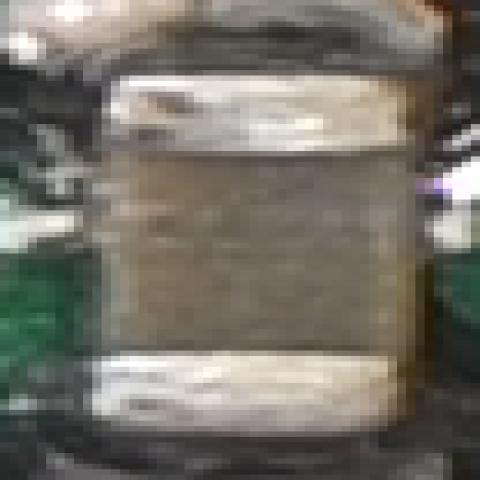Capacitor: (92, 66, 415, 442)
